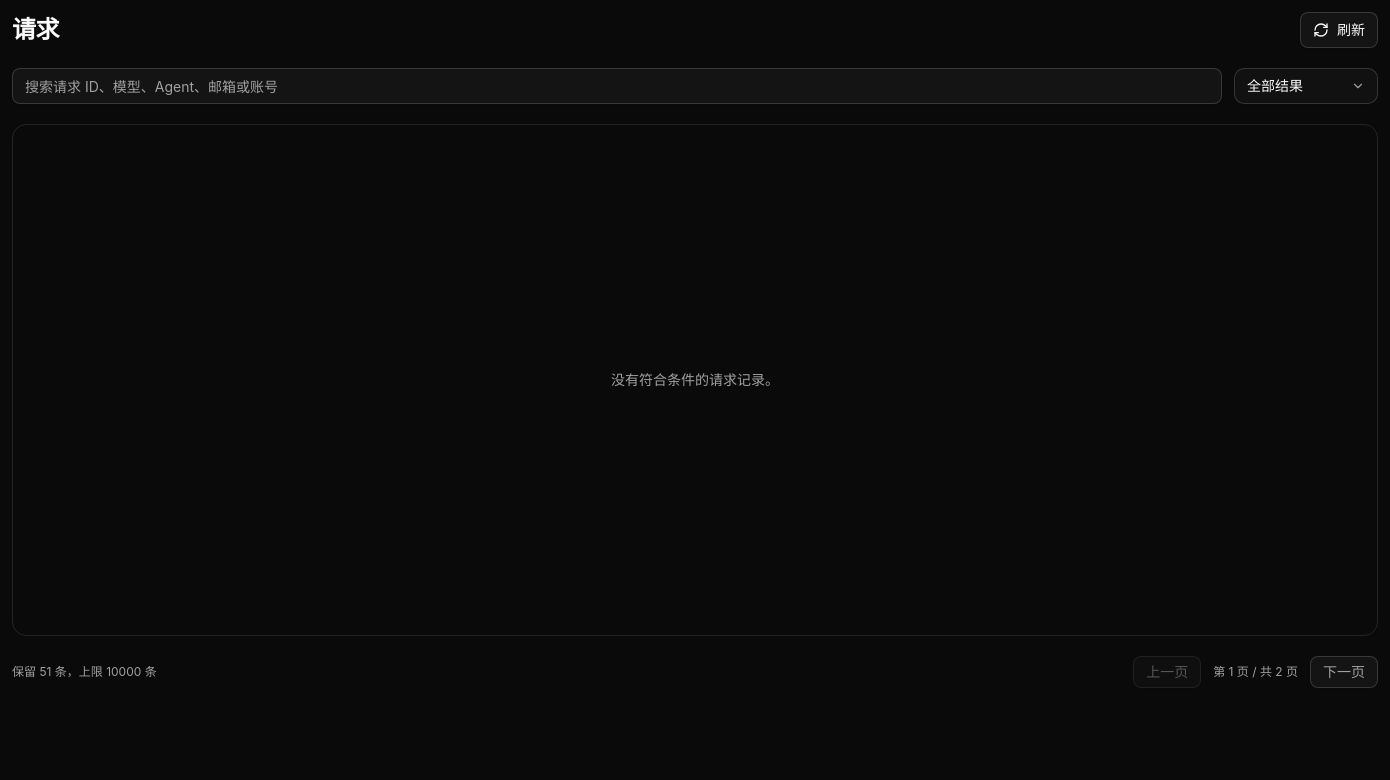
Test: 不满一页的末页禁用下一页，返回及搜索使用同一个分页大小
Expected: the text "第 1 页 / 共 2 页" is shown, [1213, 664, 1298, 680]
Click the button "下一页" at [1344, 672], box [1310, 656, 1378, 688]
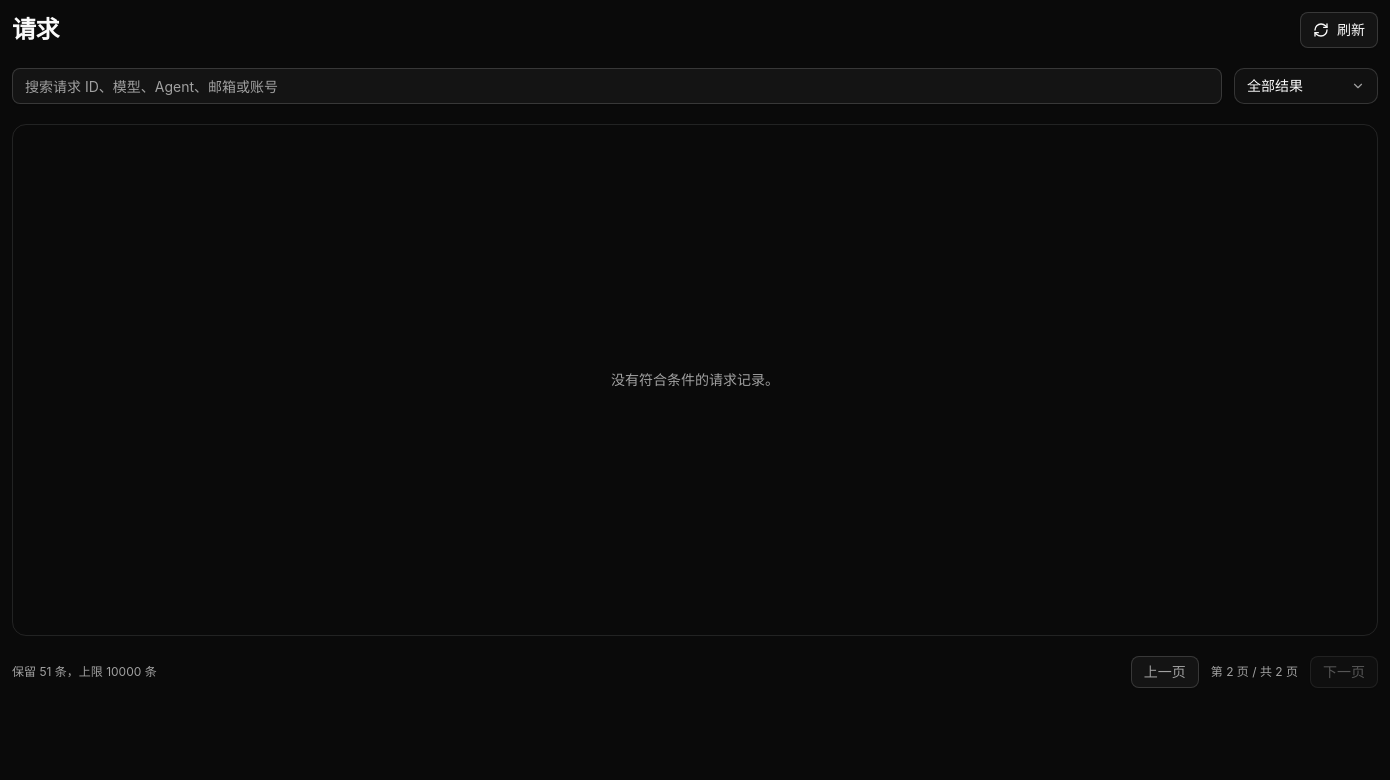
Expected: the text "第 2 页 / 共 2 页" is shown, [1211, 664, 1298, 680]
Expected: the button "下一页" is disabled, [1310, 656, 1378, 688]
Click the button "上一页" at [1165, 672], box [1131, 656, 1199, 688]
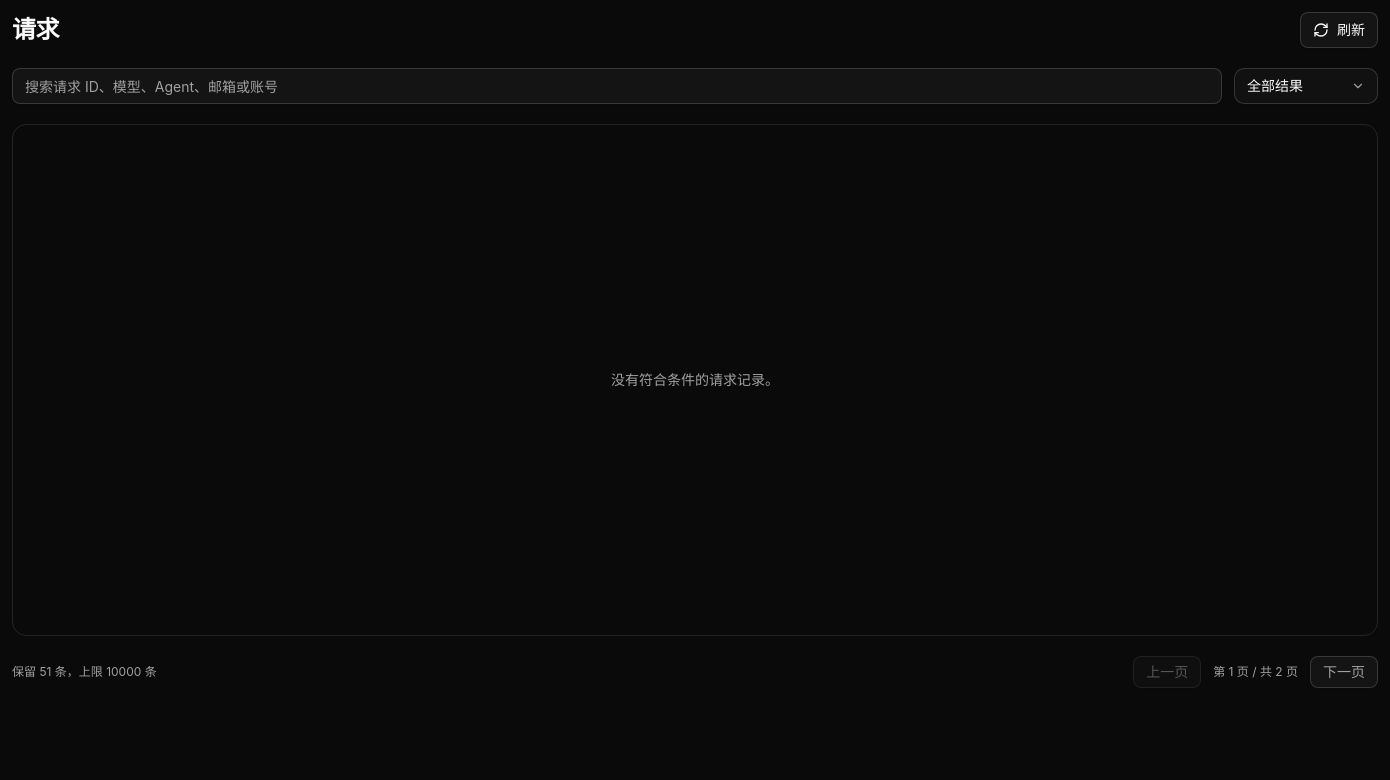
Expected: the text "第 1 页 / 共 2 页" is shown, [1213, 664, 1298, 680]
Click the button "下一页" at [1344, 672], box [1310, 656, 1378, 688]
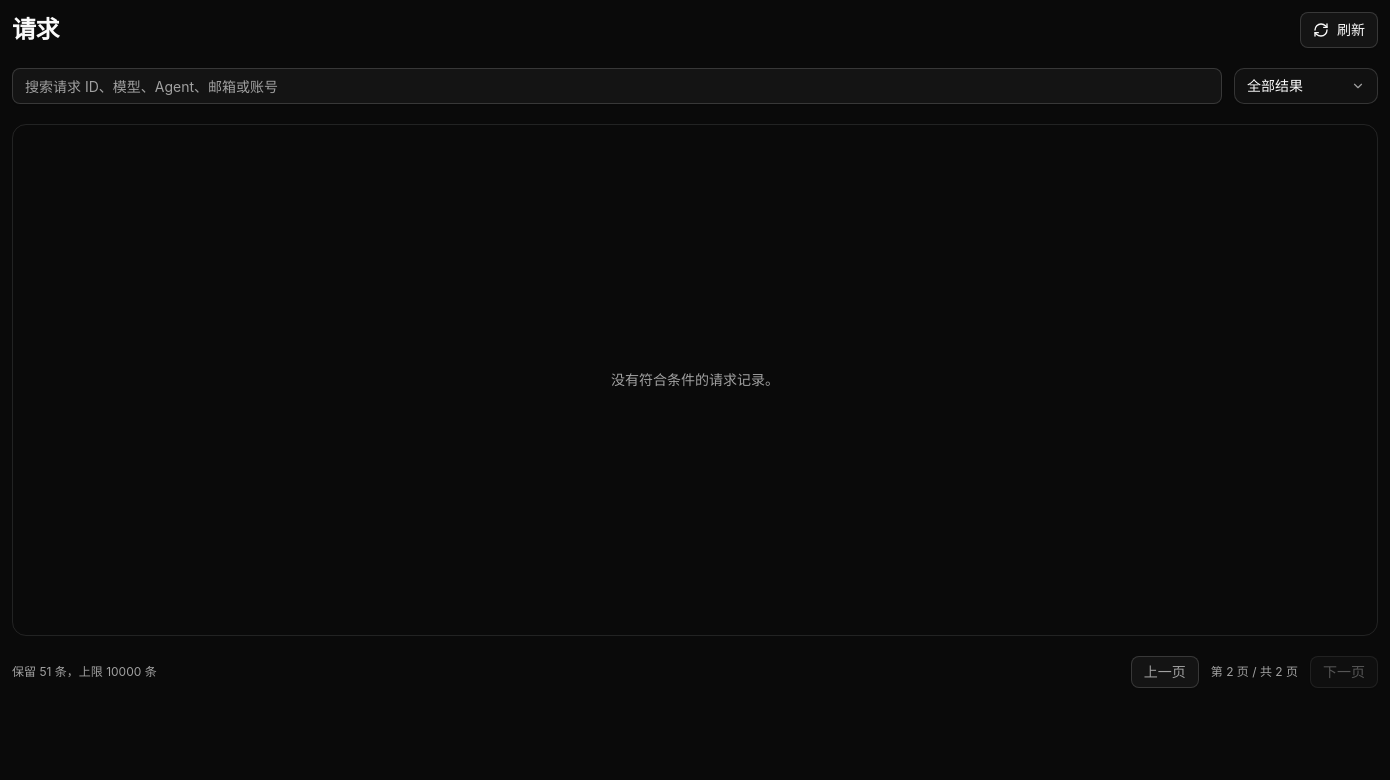
Type "flash" into the field labelled "搜索请求 ID、模型、Agent、邮箱或账号" at [617, 86], box [12, 68, 1222, 104]
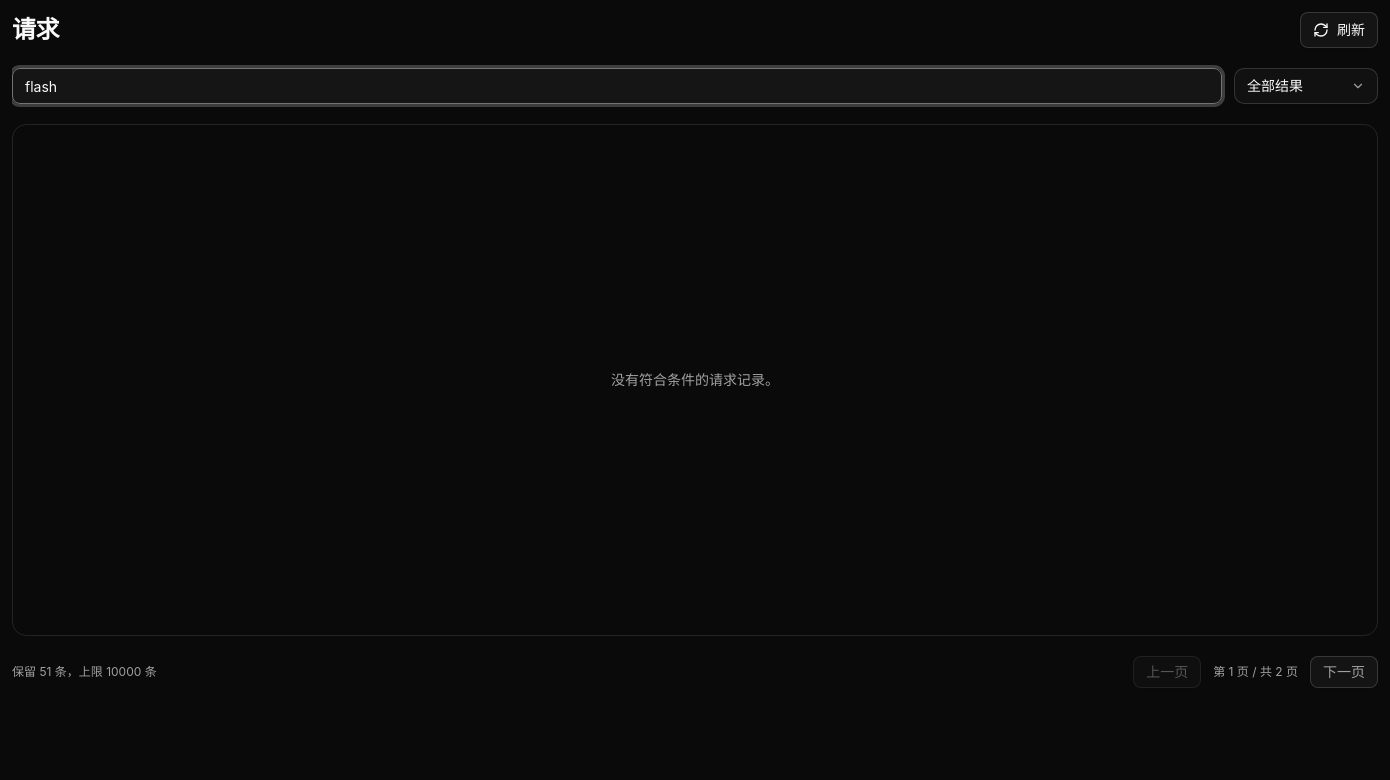
Expected: the text "第 1 页 / 共 2 页" is shown, [1213, 664, 1298, 680]
